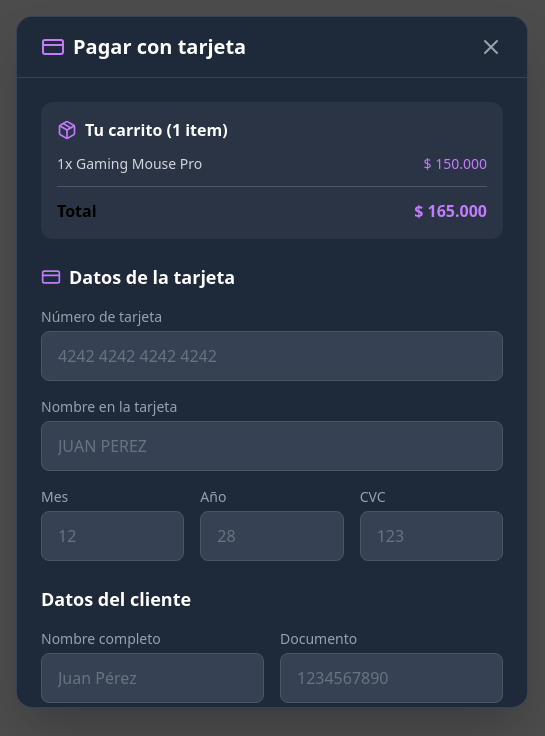
Test: PaymentModal › Card Input › detects Mastercard
This screenshot has width=545, height=736.
Type "5111111111111118" into the field with placeholder "4242 4242 4242 4242". click: coordinates (272, 356)
box: [41,331,503,381]
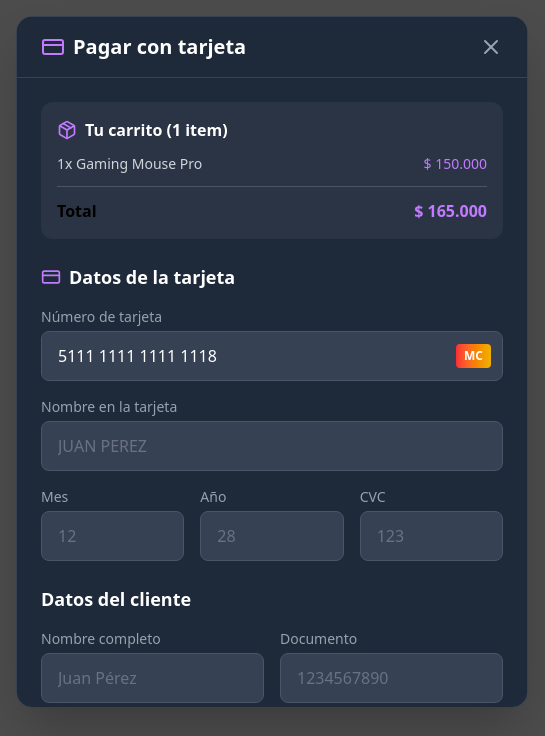
Expected: the text "MC" is shown, [456,344,491,368]
